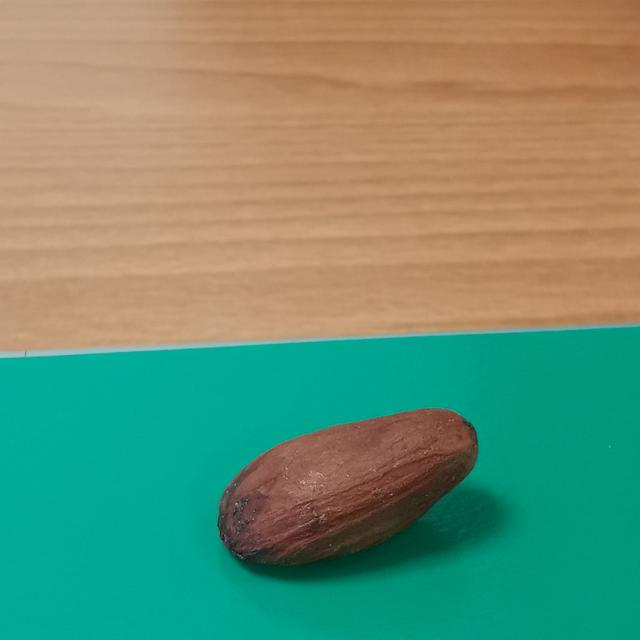Fine_cocoabeans: (148, 371, 583, 619)
